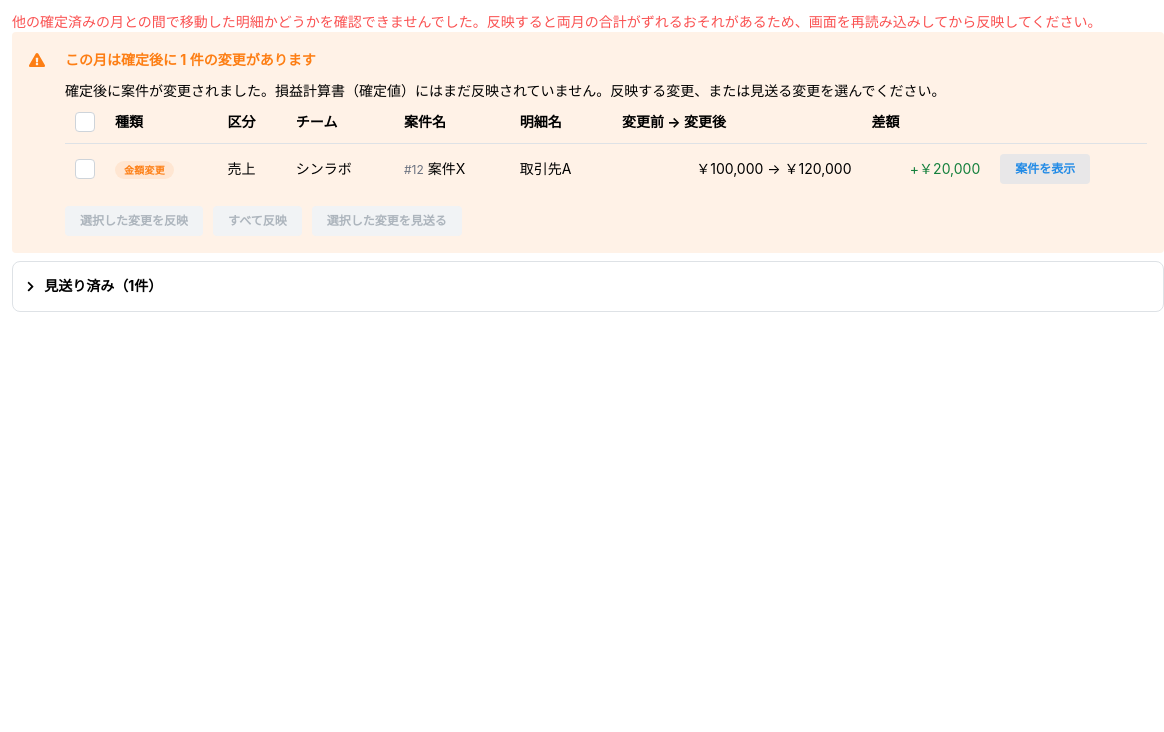
Test: ClosingDiffPanel › 移動の情報を取得できなかった場合は注意を出し、未処理・見送り済みのどちらからも反映できない（見送り・取り消しはできる）
Expected: the text "移動した明細かどうかを確認できませんでした" is shown, [12, 13, 1102, 30]
Click the checkbox named "案件X 取引先Aを選択" at (85, 169), box [75, 159, 95, 179]
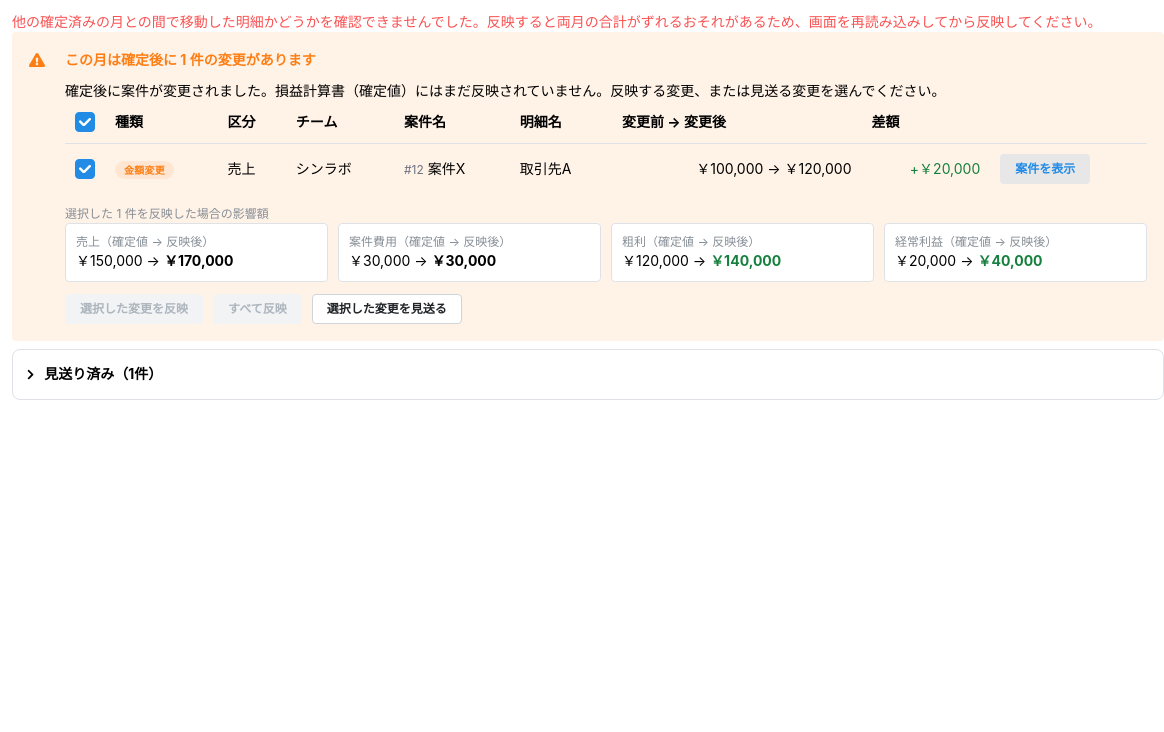
Expected: the button "選択した変更を反映" is disabled, [65, 294, 203, 324]
Now the button "選択した変更を見送る" is enabled, box [312, 294, 462, 324]
Click the button "見送り済み（1件）" at (94, 374), box [25, 364, 162, 384]
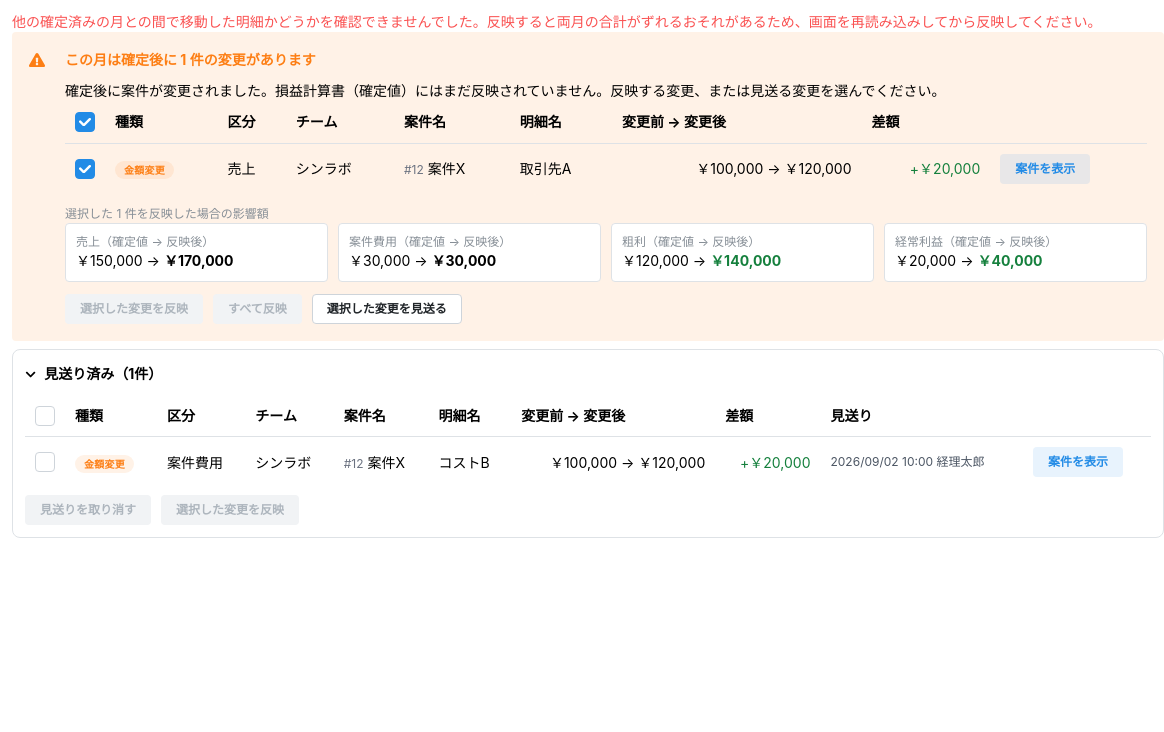
Click the checkbox named "案件X コストBを選択" at (45, 462), box [35, 452, 55, 472]
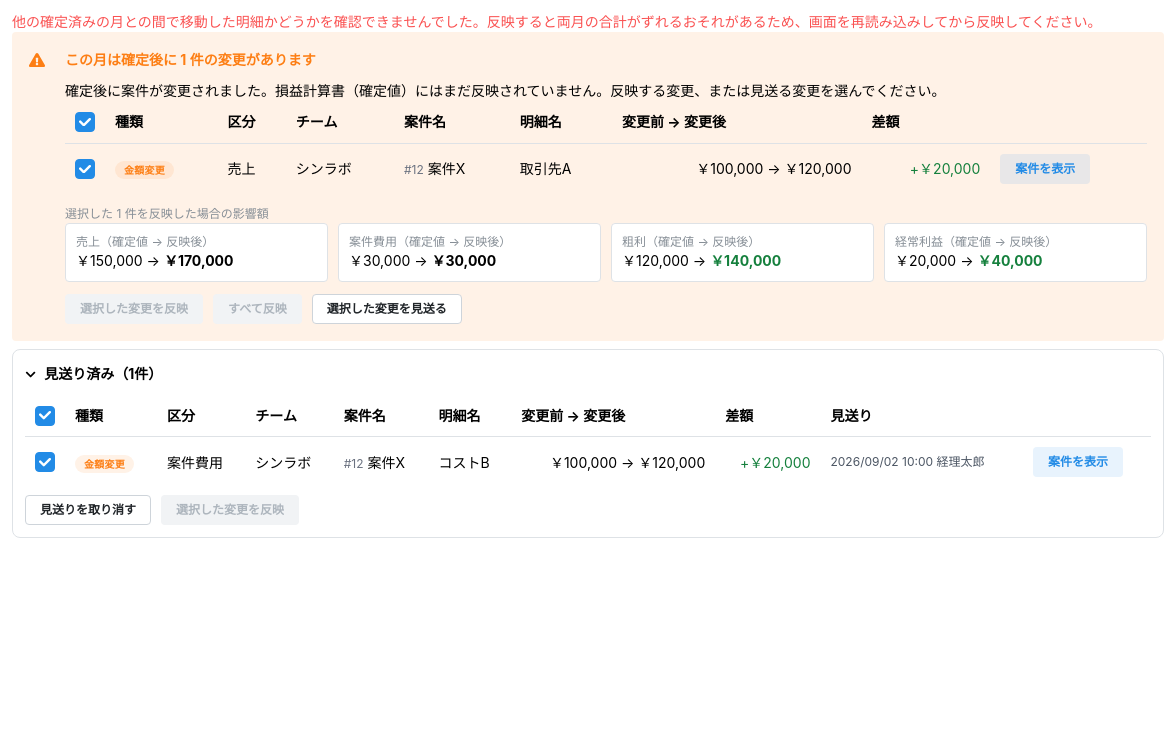
Now the button "選択した変更を反映" below "コストB" is disabled, box [161, 495, 299, 525]
Now the button "見送りを取り消す" is enabled, box [25, 495, 151, 525]
